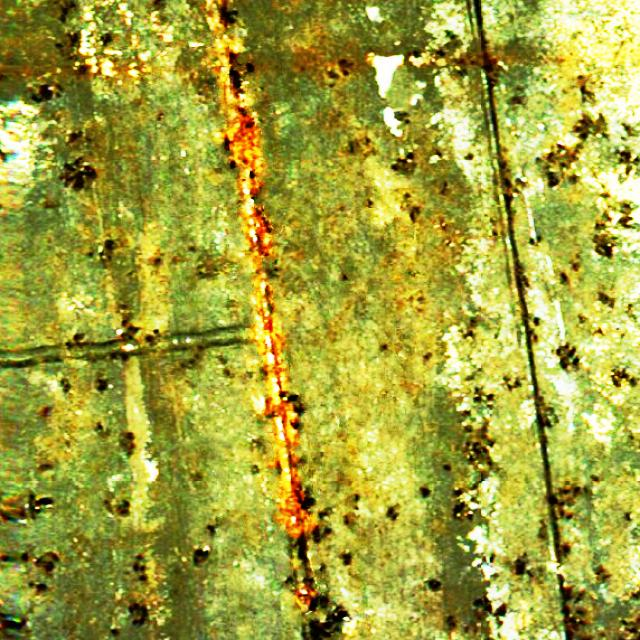Corrosion: (228, 109, 315, 536), (297, 591, 311, 606)
